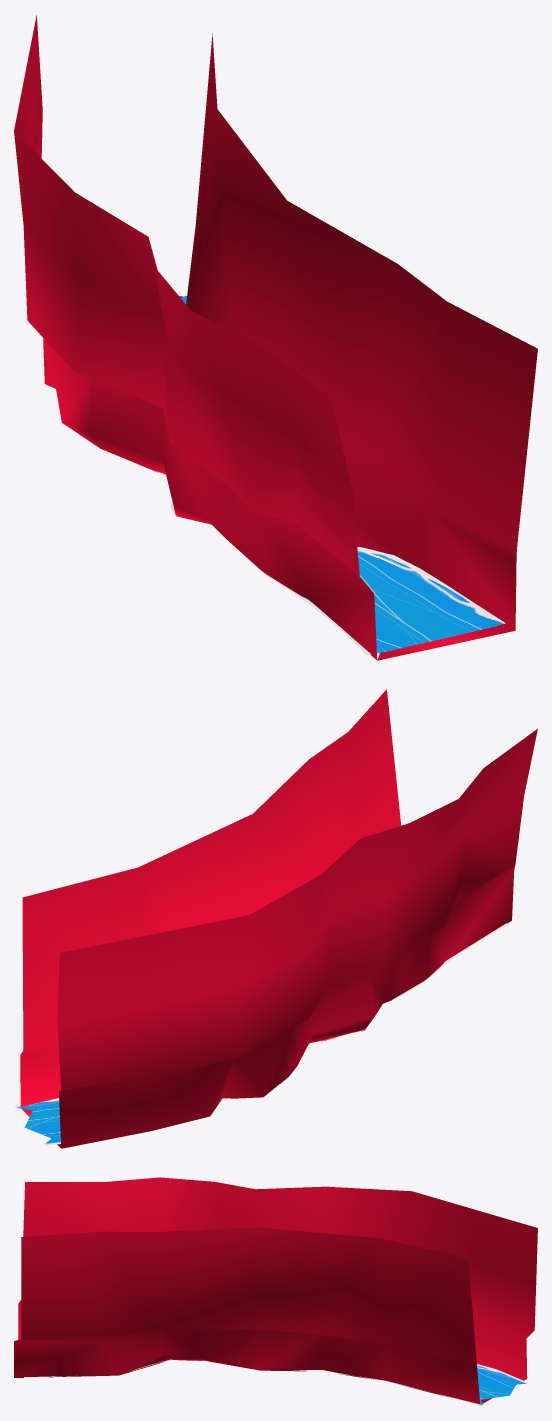
File: SM_FurtherCliff.FBX
3 views of the same model, one above another, from view 1: azimuth 30°, elevation 25°; view 2: azimuth 150°, elevation 25°; view 3: azimuth 270°, elevation 25° (orthographic). The views are drawn at different scales.
Parts seen in each view (by area): view 1: Box002, Box004; view 2: Box002, Box004; view 3: Box002, Box004.
Part boxes in pixels (<box>): Box002: <box>14,15,537,660</box>; Box004: <box>155,295,505,655</box>; Box002: <box>20,689,537,1148</box>; Box004: <box>14,923,509,1145</box>; Box002: <box>14,1177,537,1404</box>; Box004: <box>24,1359,528,1406</box>.
Bounding box in the file's own units: 4306 × 3702 × 11782.
